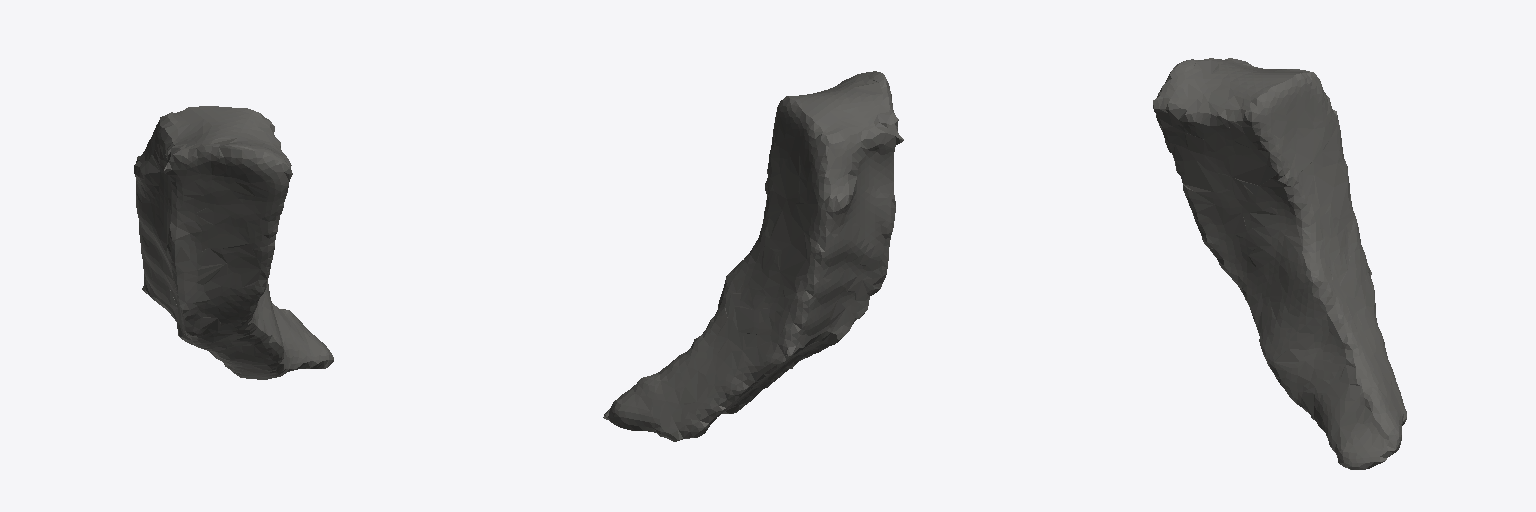
Rendered from Model_48_RH__Area_13_of_cortex__medial_part_(A13M).obj.
3 renders of one model, left to right at view 1: azimuth 30°, elevation 25°; view 2: azimuth 150°, elevation 25°; view 3: azimuth 270°, elevation 25°, orthographic.
Bounding box in the file's own units: 3.09 × 4.17 × 2.96.